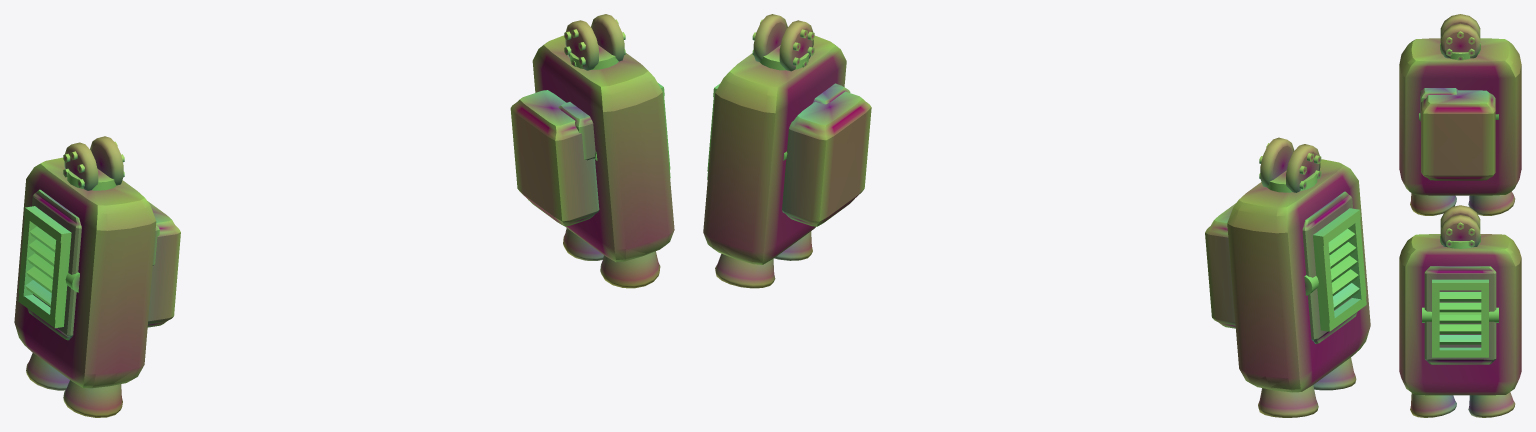
File: llm_gen_leg_thrusters_058_6c8d6f.glb
3 renders of one model, left to right at view 1: azimuth 30°, elevation 25°; view 2: azimuth 150°, elevation 25°; view 3: azimuth 270°, elevation 25°, orthographic. The views are drawn at different scales.
Parts seen in each view (by area): view 1: flare_cowling_main_0_barrel_metal_l, flare_cowling_main_0_barrel_metal_r, adapter_calf_clamp_r, adapter_sub_flare_louver_gold_3_dark_l, adapter_calf_clamp_l, adapter_sub_louver_frame_dark_1_adapter_dark_l, servo_5_servo_accent_r, servo_5_servo_accent_l, flare_bell_fwd_6_vernier_bell_vernier_l, flare_louver_gold_3_titanium_silver_l, flare_bell_fwd_6_vernier_bell_vernier_r, flare_bell_aft_7_vernier_bell_vernier_l (+2 smaller); view 2: flare_cowling_main_0_barrel_metal_l, flare_cowling_main_0_barrel_metal_r, adapter_calf_clamp_r, adapter_sub_flare_louver_gold_3_dark_l, adapter_calf_clamp_l, adapter_sub_louver_frame_dark_1_adapter_dark_l, servo_5_servo_accent_r, servo_5_servo_accent_l, flare_louver_gold_3_titanium_silver_l, flare_bell_aft_7_vernier_bell_vernier_l, flare_bell_aft_7_vernier_bell_vernier_r, flare_bell_fwd_6_vernier_bell_vernier_l (+1 smaller); view 3: flare_cowling_main_0_barrel_metal_r, flare_cowling_main_0_barrel_metal_l, adapter_calf_clamp_l, adapter_sub_louver_frame_dark_1_adapter_dark_r, adapter_sub_flare_louver_gold_3_dark_r, flare_louver_gold_3_titanium_silver_r, servo_5_servo_accent_l, servo_5_servo_accent_r, flare_bell_aft_7_vernier_bell_vernier_r, flare_bell_fwd_6_vernier_bell_vernier_r, flare_bell_aft_7_vernier_bell_vernier_l, flare_bell_fwd_6_vernier_bell_vernier_l (+6 smaller).
Part boxes in pixels (bbox=[...]): flare_cowling_main_0_barrel_metal_l: bbox=[14, 157, 156, 388]; flare_cowling_main_0_barrel_metal_r: bbox=[532, 35, 674, 262]; adapter_calf_clamp_r: bbox=[510, 90, 599, 226]; adapter_sub_flare_louver_gold_3_dark_l: bbox=[18, 206, 71, 328]; adapter_calf_clamp_l: bbox=[147, 201, 180, 327]; adapter_sub_louver_frame_dark_1_adapter_dark_l: bbox=[27, 189, 81, 340]; servo_5_servo_accent_r: bbox=[565, 14, 624, 70]; servo_5_servo_accent_l: bbox=[64, 136, 123, 190]; flare_bell_fwd_6_vernier_bell_vernier_l: bbox=[63, 380, 122, 417]; flare_louver_gold_3_titanium_silver_l: bbox=[25, 226, 56, 306]; flare_bell_fwd_6_vernier_bell_vernier_r: bbox=[600, 251, 660, 288]; flare_bell_aft_7_vernier_bell_vernier_l: bbox=[26, 353, 69, 390]; flare_cowling_main_0_barrel_metal_l: bbox=[1227, 159, 1370, 392]; flare_cowling_main_0_barrel_metal_r: bbox=[703, 35, 846, 264]; adapter_calf_clamp_r: bbox=[782, 91, 871, 226]; adapter_sub_flare_louver_gold_3_dark_l: bbox=[1313, 208, 1366, 331]; adapter_calf_clamp_l: bbox=[1205, 203, 1235, 328]; adapter_sub_louver_frame_dark_1_adapter_dark_l: bbox=[1302, 191, 1357, 343]; servo_5_servo_accent_r: bbox=[753, 14, 813, 71]; servo_5_servo_accent_l: bbox=[1260, 137, 1320, 192]; flare_louver_gold_3_titanium_silver_l: bbox=[1328, 228, 1359, 309]; flare_bell_aft_7_vernier_bell_vernier_l: bbox=[1258, 385, 1318, 417]; flare_bell_aft_7_vernier_bell_vernier_r: bbox=[715, 253, 775, 288]; flare_bell_fwd_6_vernier_bell_vernier_l: bbox=[1313, 357, 1356, 390]; flare_cowling_main_0_barrel_metal_r: bbox=[1399, 234, 1521, 395]; flare_cowling_main_0_barrel_metal_l: bbox=[1399, 38, 1521, 195]; adapter_calf_clamp_l: bbox=[1421, 90, 1495, 180]; adapter_sub_louver_frame_dark_1_adapter_dark_r: bbox=[1424, 266, 1496, 364]; adapter_sub_flare_louver_gold_3_dark_r: bbox=[1432, 279, 1488, 357]; flare_louver_gold_3_titanium_silver_r: bbox=[1439, 292, 1481, 344]; servo_5_servo_accent_l: bbox=[1440, 14, 1480, 58]; servo_5_servo_accent_r: bbox=[1440, 205, 1480, 246]; flare_bell_aft_7_vernier_bell_vernier_r: bbox=[1468, 392, 1515, 417]; flare_bell_fwd_6_vernier_bell_vernier_r: bbox=[1410, 393, 1456, 417]; flare_bell_aft_7_vernier_bell_vernier_l: bbox=[1468, 191, 1515, 215]; flare_bell_fwd_6_vernier_bell_vernier_l: bbox=[1410, 193, 1456, 215].
Bounding box in the file's own units: 82 × 31.62 × 18.
